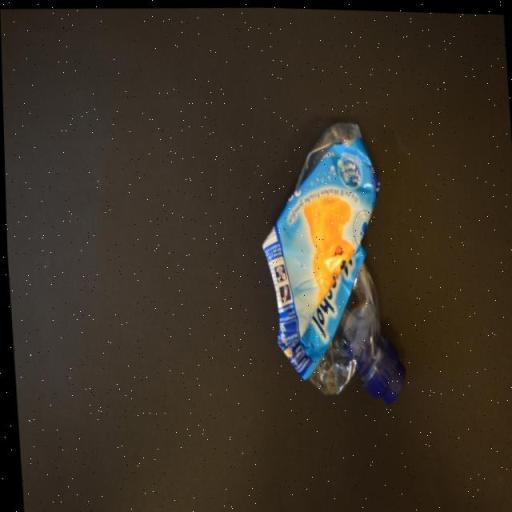plastic: (254, 113, 406, 405)
